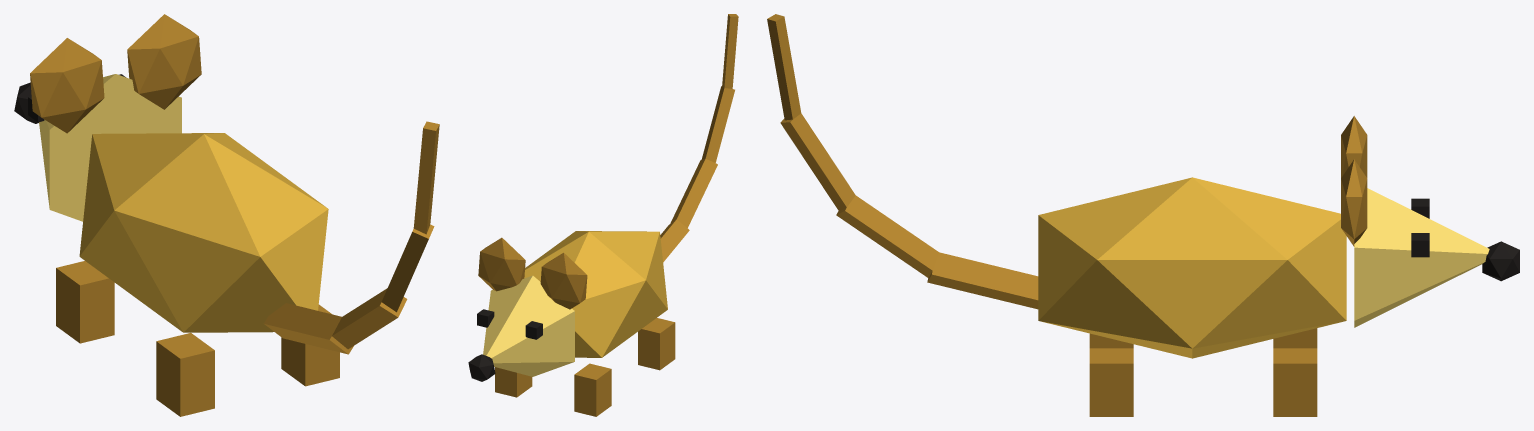
Rendered from PR_GoldenRat.fbx.
3 views of the same model, side by side, from view 1: azimuth 30°, elevation 25°; view 2: azimuth 150°, elevation 25°; view 3: azimuth 270°, elevation 25° (orthographic). The views are drawn at different scales.
Parts seen in each view (by area): view 1: PR_GoldenRat; view 2: PR_GoldenRat; view 3: PR_GoldenRat.
Boxes of the visible parts, x1=… form: PR_GoldenRat: x1=14, y1=14, x2=439, y2=416; PR_GoldenRat: x1=468, y1=14, x2=738, y2=416; PR_GoldenRat: x1=767, y1=14, x2=1519, y2=416.
Size of the model in its own units: 0.2585 by 1.02 by 0.5476.
